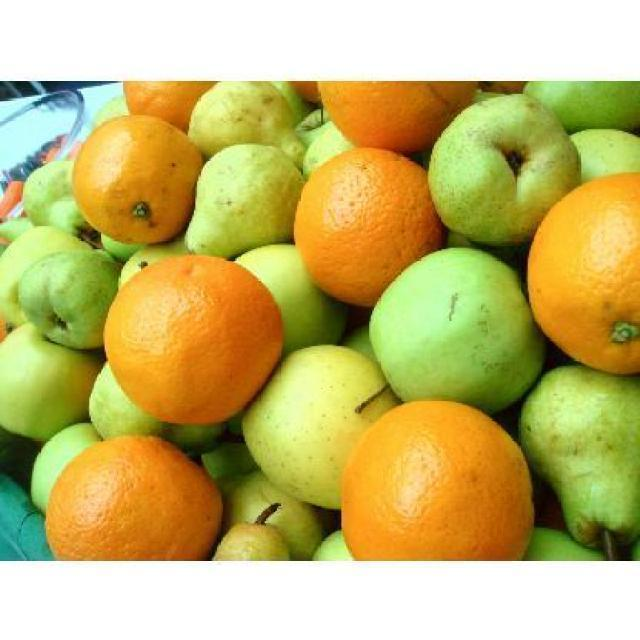Orange: (103, 252, 285, 422), (342, 401, 530, 554), (286, 144, 437, 310), (45, 434, 229, 560), (522, 172, 638, 366), (74, 115, 198, 242), (316, 79, 478, 152)
